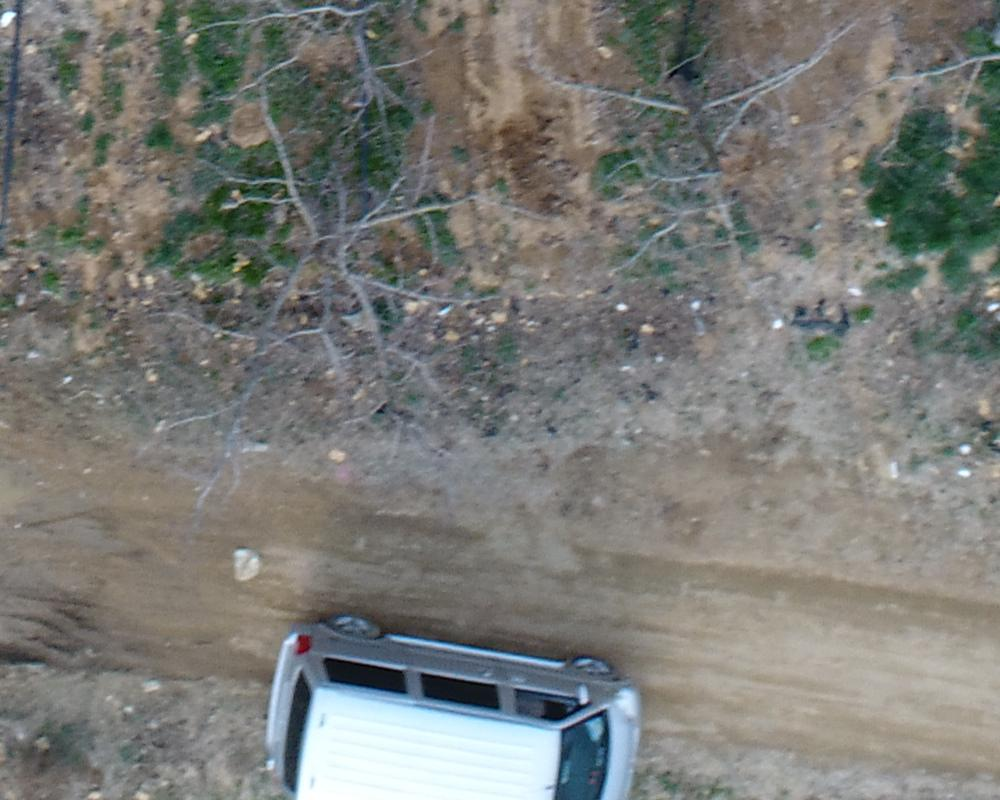apple: (201, 93, 517, 443), (514, 10, 869, 273)
